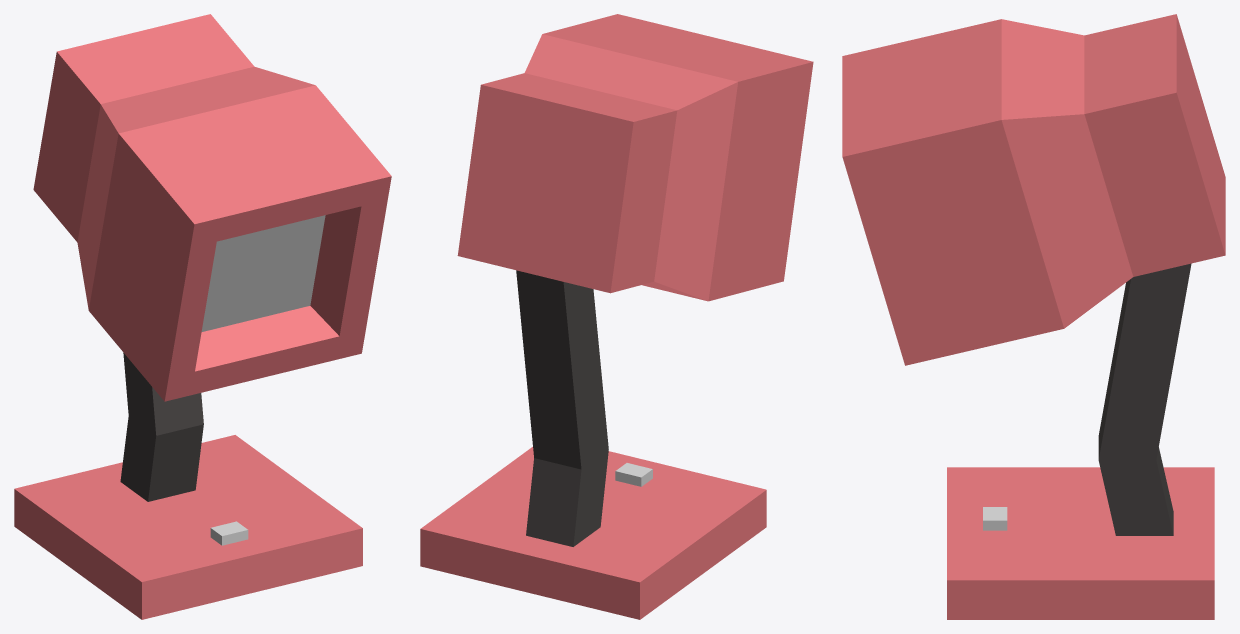
3 views of the same model, side by side, from view 1: azimuth 30°, elevation 25°; view 2: azimuth 150°, elevation 25°; view 3: azimuth 270°, elevation 25° (orthographic). The views are drawn at different scales.
Parts seen in each view (by area): view 1: taideng002; view 2: taideng002; view 3: taideng002.
Part boxes in pixels (x1,y1,x2,y2): taideng002: [14, 14, 391, 619]; taideng002: [420, 14, 813, 619]; taideng002: [842, 14, 1225, 619].
Size of the model in its own units: 11.08 by 23.09 by 15.87.
